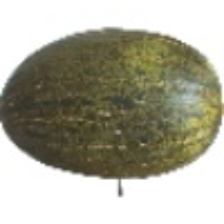honeydew: (50, 18, 187, 217)
